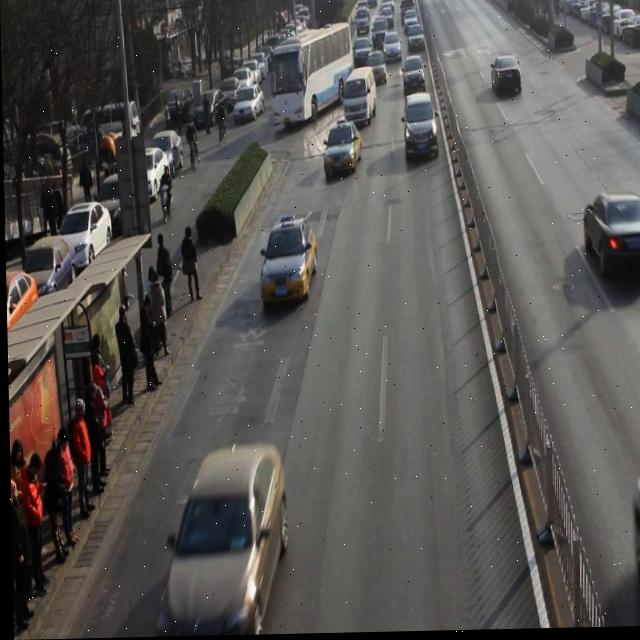car: (152, 442, 287, 637), (259, 219, 317, 308), (583, 194, 640, 279), (402, 94, 439, 164), (322, 124, 363, 178), (491, 56, 521, 97), (401, 57, 426, 99)
truck: (344, 67, 377, 128)
van: (268, 26, 355, 127)
